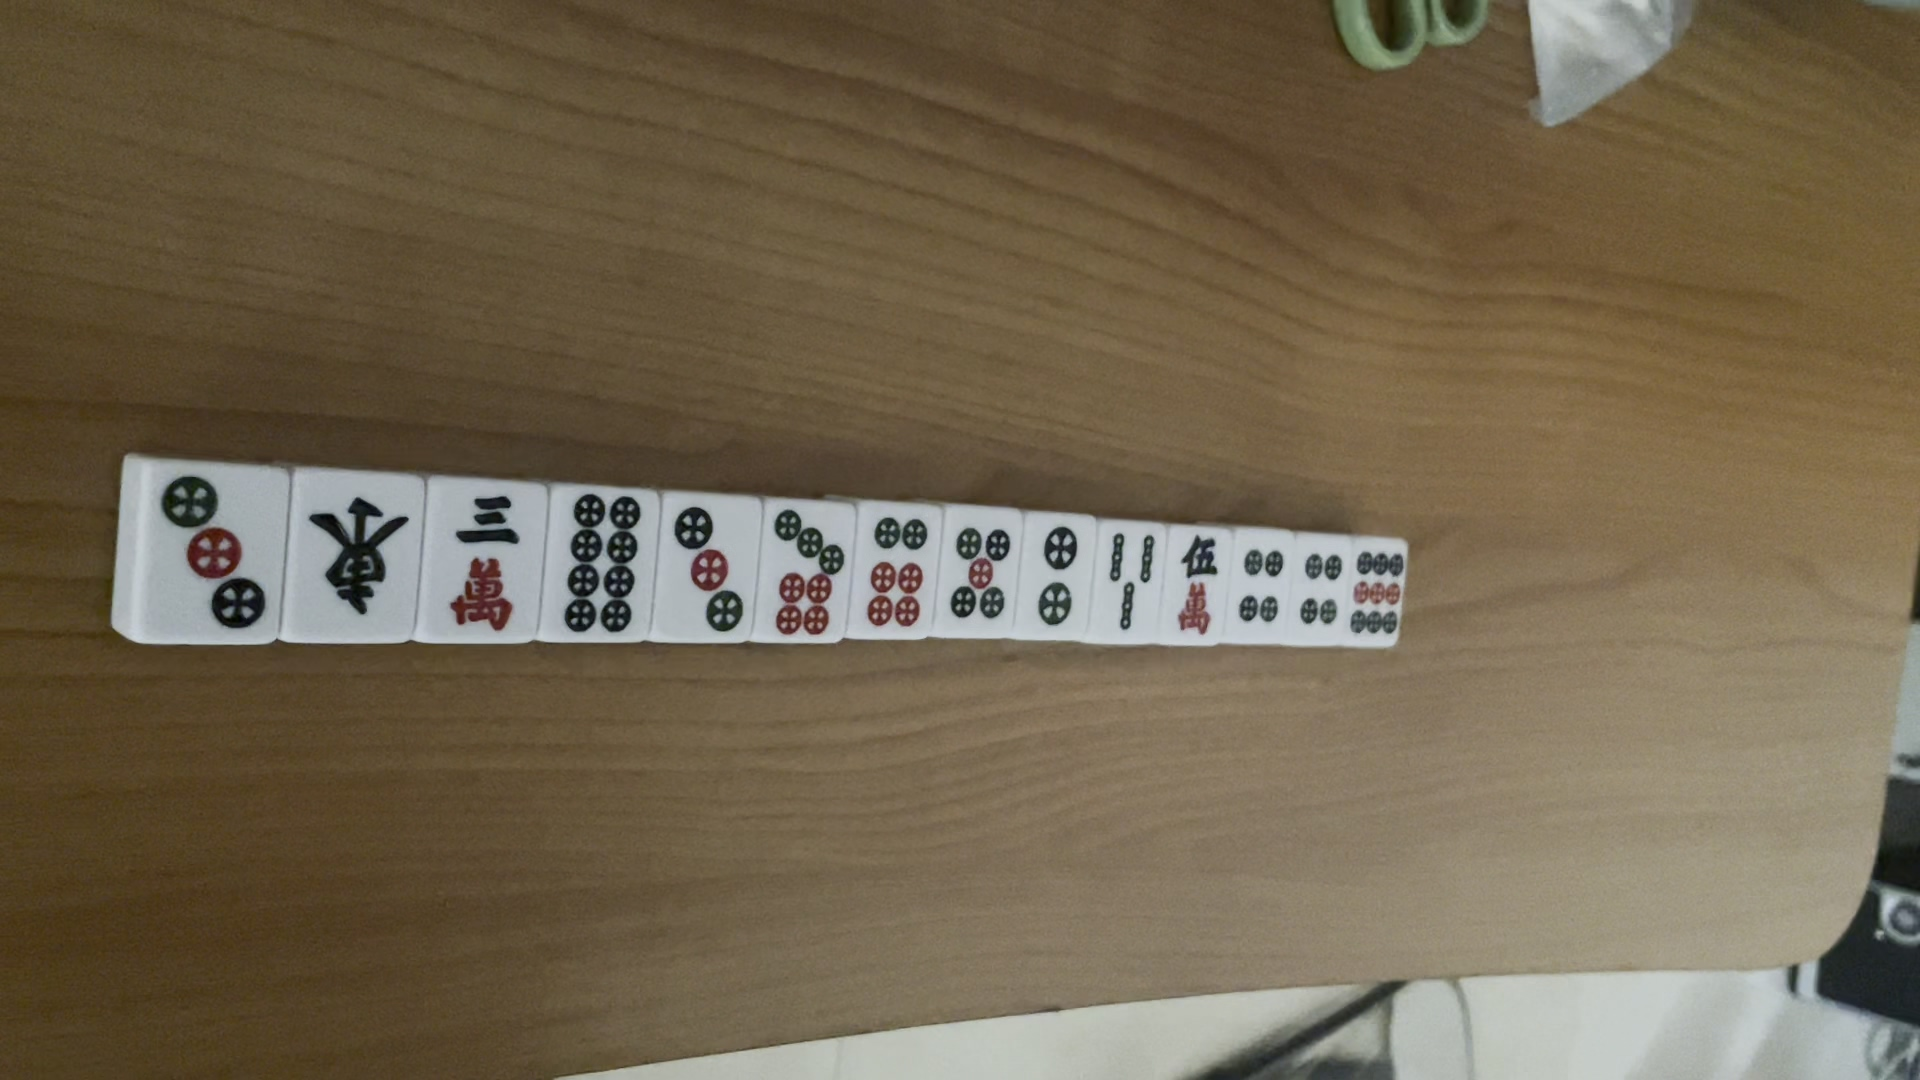b-3: (1100, 530, 1156, 632)
c-3: (442, 489, 527, 640)
c-5: (1171, 534, 1222, 638)
d-2: (1031, 522, 1081, 634)
d-3: (156, 467, 262, 633), (670, 498, 748, 636)
d-4: (1236, 547, 1283, 630), (1296, 553, 1344, 626)
d-5: (945, 517, 1015, 624)
d-6: (855, 512, 932, 638)
d-7: (764, 508, 845, 644)
d-8: (549, 492, 649, 634)
d-9: (1348, 550, 1407, 644)
honors-east: (301, 480, 411, 634)
